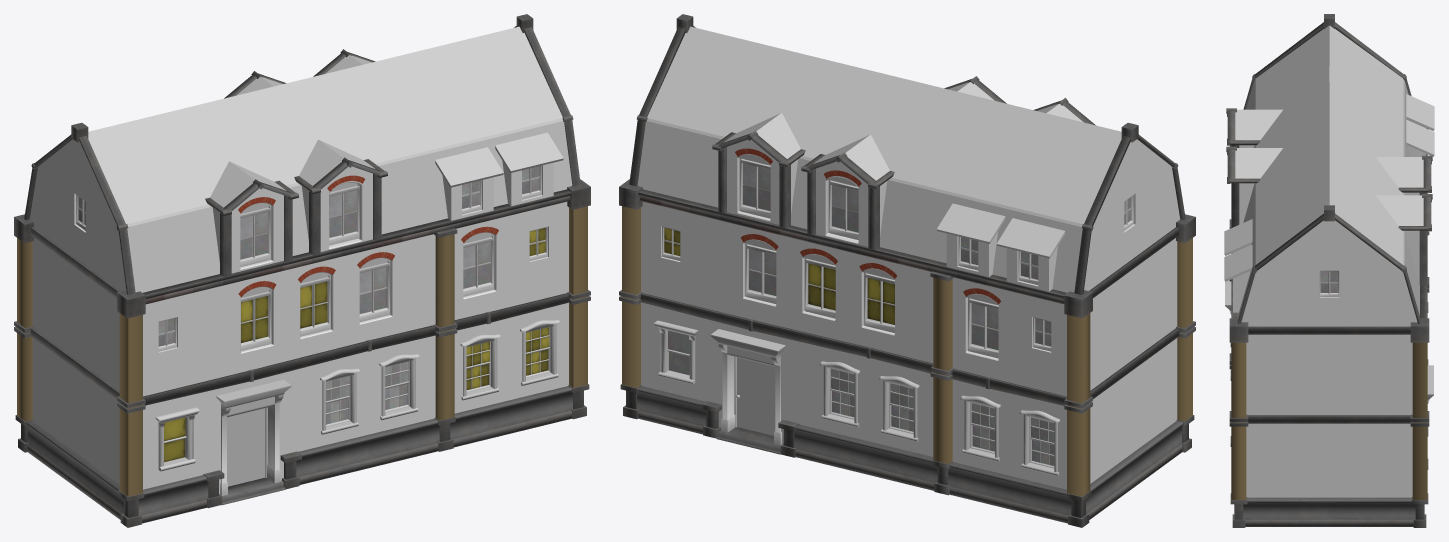
File: Building_01.fbx
3 views of the same model, side by side, from view 1: azimuth 30°, elevation 25°; view 2: azimuth 150°, elevation 25°; view 3: azimuth 270°, elevation 25° (orthographic). The views are drawn at different scales.
Visible parts, largest first — view 1: _Wall_01, Roof_01.004, Wall_04.003, _Wall_05, Roof_02.002; view 2: _Wall_05, Roof_02.002, Wall_04.003, _Wall_01, Roof_01.004; view 3: Wall_03.004, Roof_01.004, Roof_02.002, _Wall_05, _Wall_01.
Boxes of the visible parts, <box> form: _Wall_01: <box>117,202,590,527</box>; Roof_01.004: <box>71,14,590,318</box>; Wall_04.003: <box>27,139,125,519</box>; _Wall_05: <box>14,238,33,452</box>; Roof_02.002: <box>14,26,516,243</box>; _Wall_05: <box>619,202,1092,527</box>; Roof_02.002: <box>619,26,1130,318</box>; Wall_04.003: <box>1084,139,1182,519</box>; _Wall_01: <box>1176,238,1195,452</box>; Roof_01.004: <box>676,14,1195,243</box>; Wall_03.004: <box>1241,220,1417,526</box>; Roof_01.004: <box>1224,14,1334,342</box>; Roof_02.002: <box>1329,22,1434,342</box>; _Wall_05: <box>1410,193,1433,527</box>; _Wall_01: <box>1225,219,1248,527</box>.
Size of what is drawn, in the model's own units: 15.62 by 11.59 by 6.97.
